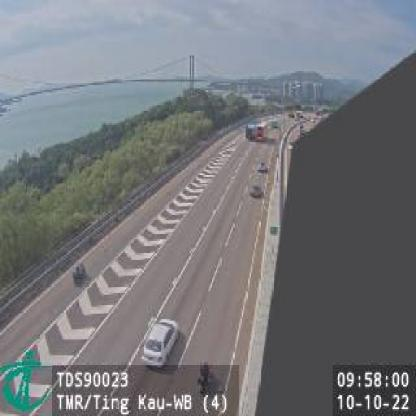Car: (140, 316, 180, 368), (249, 183, 261, 197), (258, 159, 268, 172)
